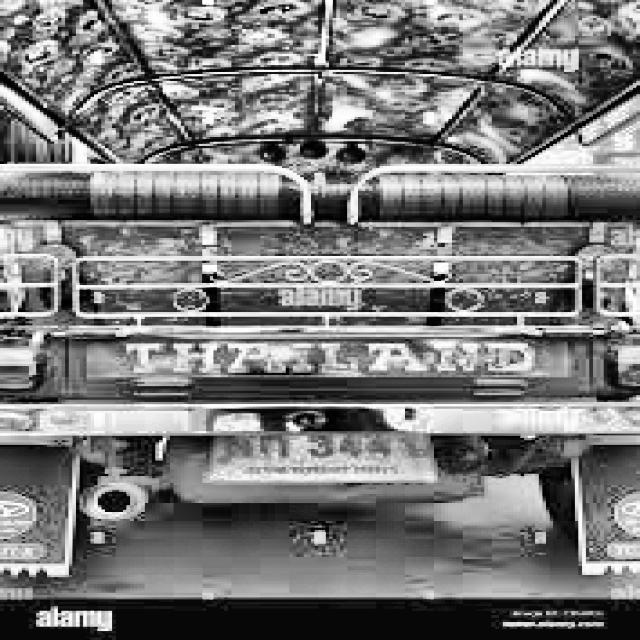license-plate: (202, 426, 437, 484)
